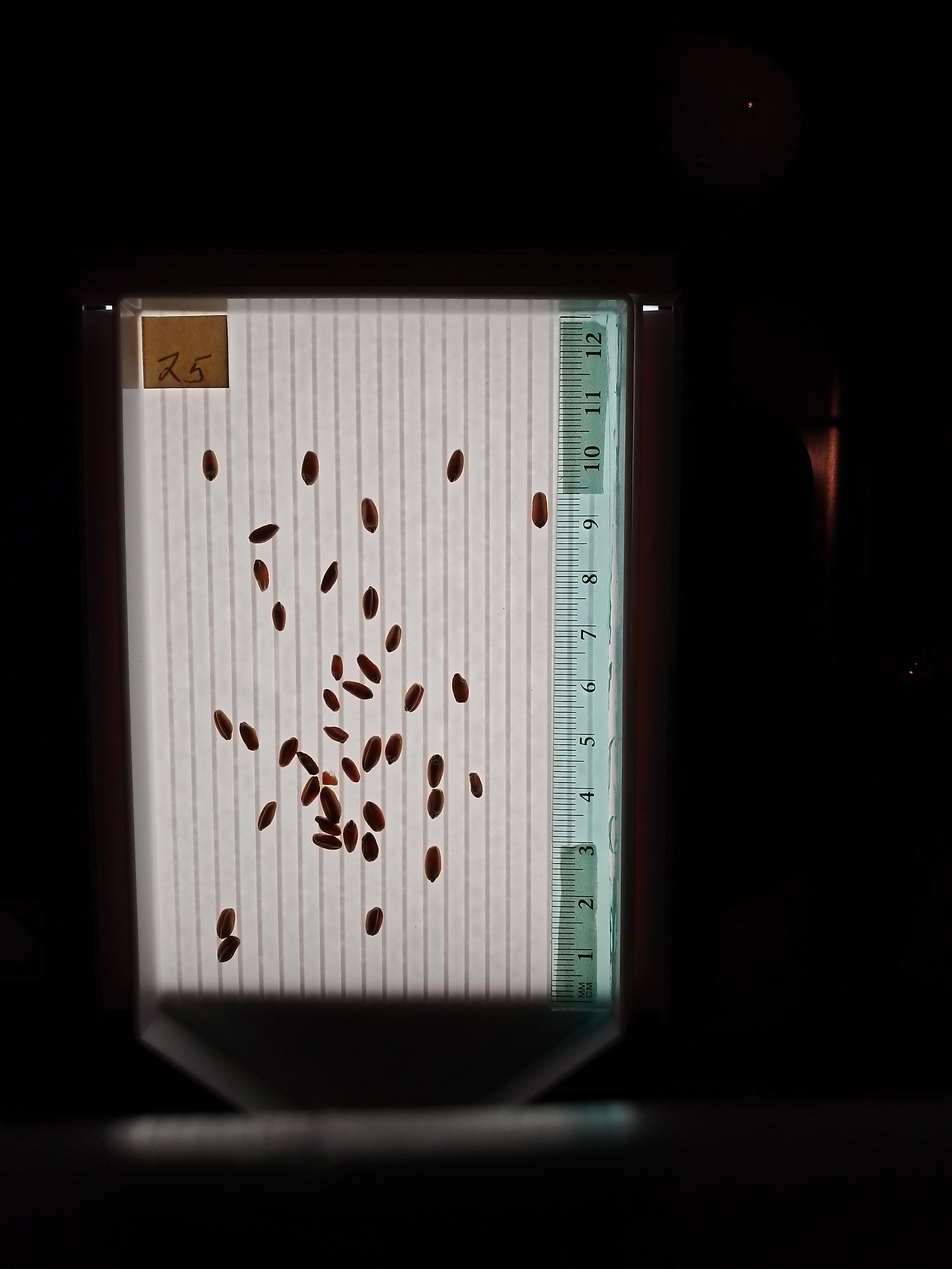seed mask: (321, 787, 341, 823), (362, 736, 382, 772), (358, 654, 381, 684), (360, 497, 379, 533), (364, 802, 385, 832), (301, 452, 319, 485), (217, 935, 239, 962), (425, 847, 442, 881), (427, 755, 444, 788), (362, 587, 379, 620), (532, 493, 548, 528), (250, 524, 278, 544), (216, 909, 236, 937), (321, 562, 339, 593), (279, 738, 298, 767), (343, 681, 372, 700), (447, 450, 464, 482), (214, 710, 232, 740), (240, 723, 259, 751), (313, 832, 341, 851), (404, 684, 423, 712), (258, 802, 276, 831), (301, 778, 320, 805), (365, 908, 383, 936), (362, 833, 379, 862), (452, 674, 469, 703), (254, 560, 269, 591), (202, 451, 218, 480), (386, 734, 402, 763), (342, 758, 360, 783), (428, 790, 444, 818), (298, 752, 318, 774), (343, 822, 358, 851), (386, 625, 401, 652), (272, 603, 286, 631), (325, 726, 348, 743), (323, 689, 340, 711), (317, 818, 340, 834), (469, 773, 483, 797), (331, 655, 342, 679)
